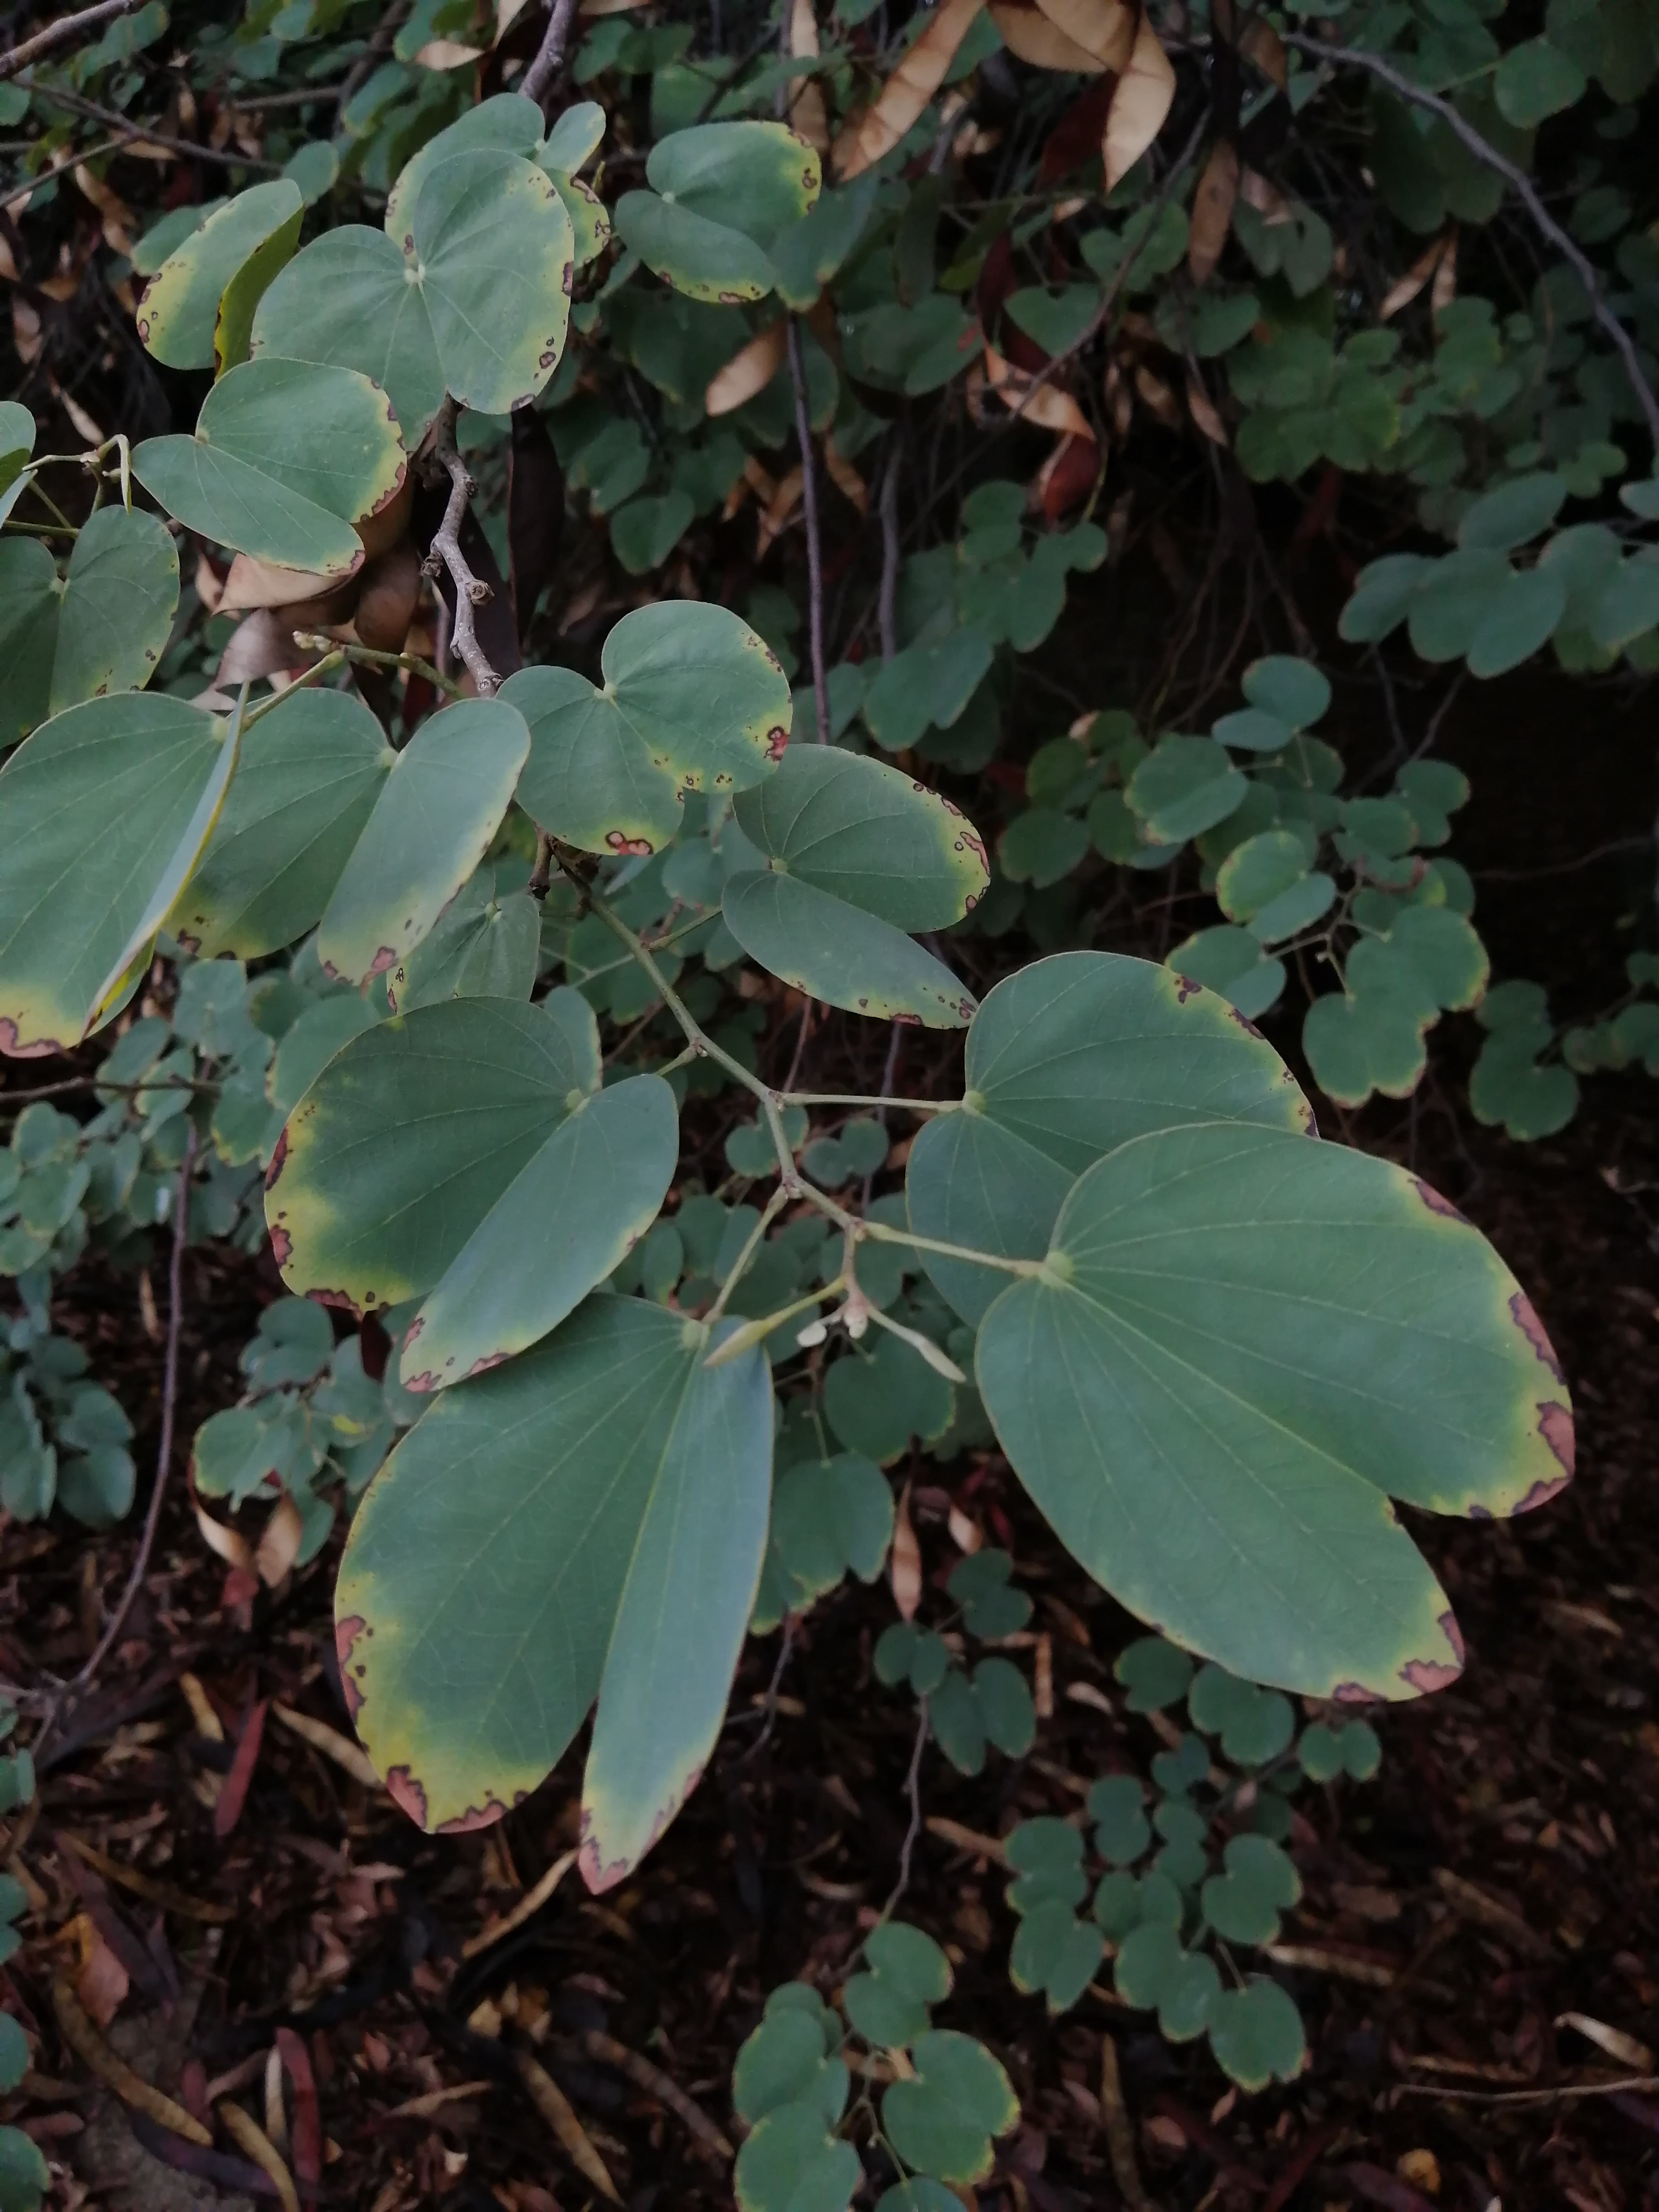nothealthy: (951, 1069, 1600, 1719), (317, 1275, 814, 1898), (251, 968, 683, 1407), (887, 946, 1344, 1341), (244, 129, 599, 439), (688, 730, 1002, 1038), (491, 604, 798, 860)
